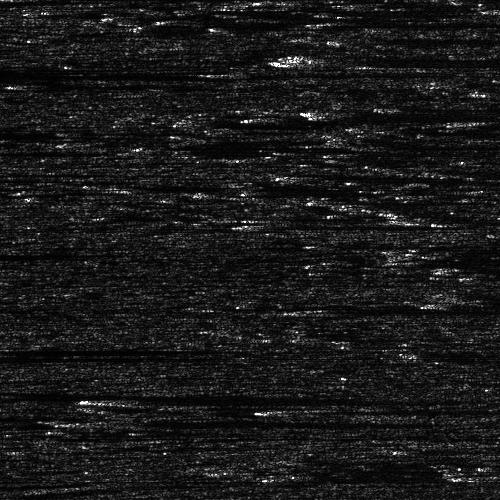rock: (359, 210, 452, 227), (431, 83, 500, 100), (261, 55, 366, 64), (440, 469, 500, 484), (44, 418, 137, 427), (428, 257, 459, 276), (282, 307, 355, 314), (434, 117, 500, 124), (233, 220, 274, 229), (195, 72, 258, 77), (108, 397, 149, 402), (331, 38, 372, 43), (488, 431, 500, 448), (286, 406, 297, 415), (308, 107, 319, 116)
shadow: (0, 67, 325, 80), (0, 338, 190, 359), (91, 418, 377, 427), (254, 220, 474, 229), (129, 397, 492, 402), (314, 55, 500, 64), (314, 107, 500, 116), (406, 210, 500, 227), (444, 257, 500, 276), (319, 307, 466, 314), (0, 393, 323, 396), (352, 38, 500, 43), (292, 406, 367, 415), (0, 356, 82, 363), (0, 148, 80, 153), (227, 72, 300, 77), (476, 117, 500, 124)
